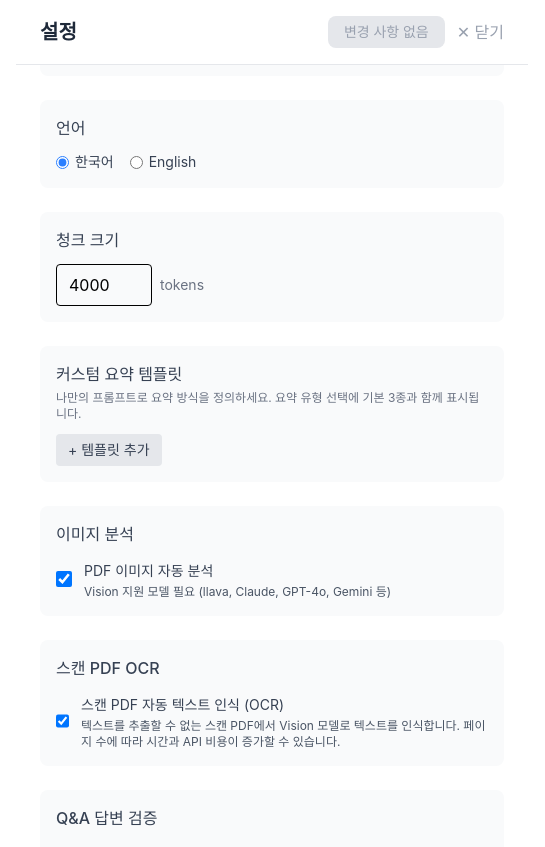
SettingsPanel — 커스텀 템플릿 검증 › 이름+프롬프트 모두 채운 완전 템플릿은 저장 성공(savedBtn)
(page scrolled)
Click the button "+ 템플릿 추가": x=109, y=450 [56,434,162,466]
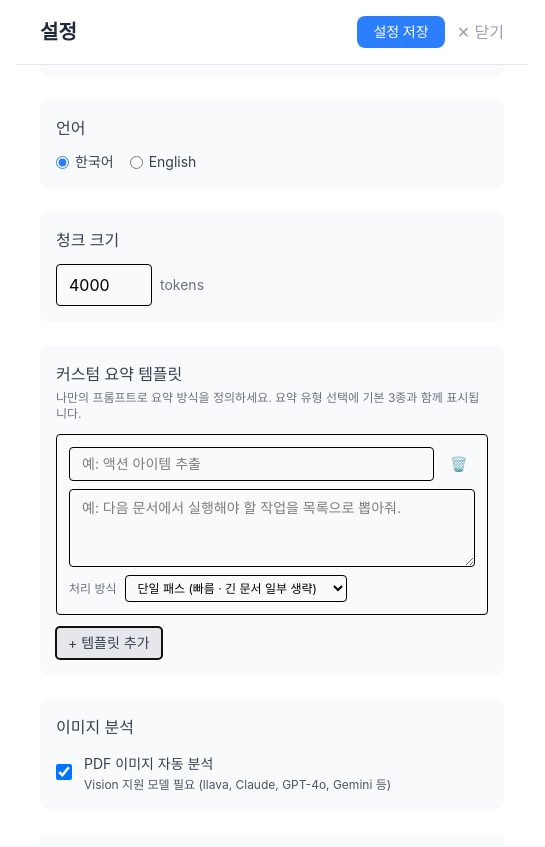
In the field named "템플릿 이름": x=252, y=464 [69,447,434,481], type "액션 아이템"
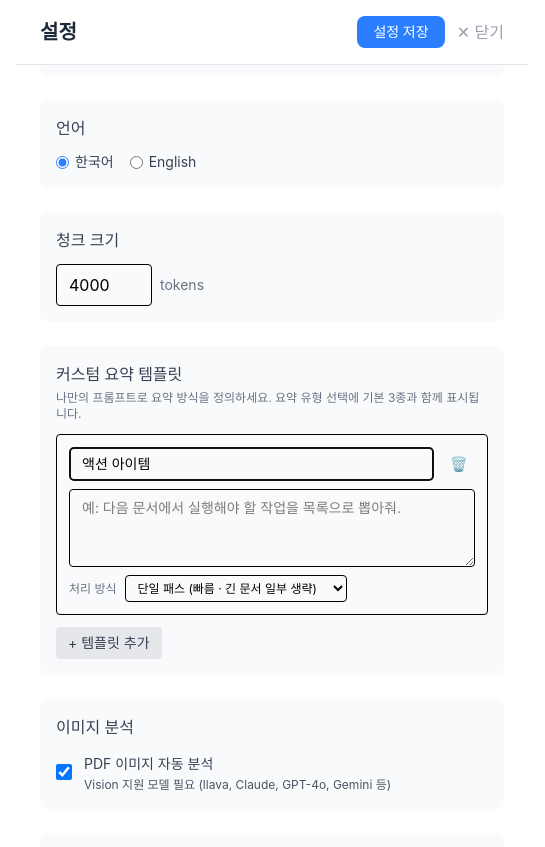
In the text box named "템플릿 프롬프트": x=272, y=528 [69,489,475,567], type "작업을 목록으로 뽑아줘"
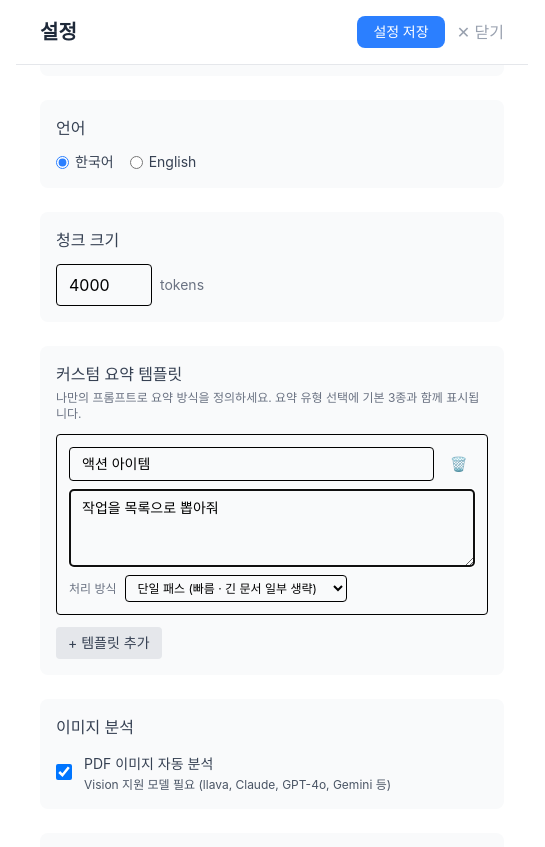
Click the button "설정 저장": x=401, y=32 [357,16,445,48]
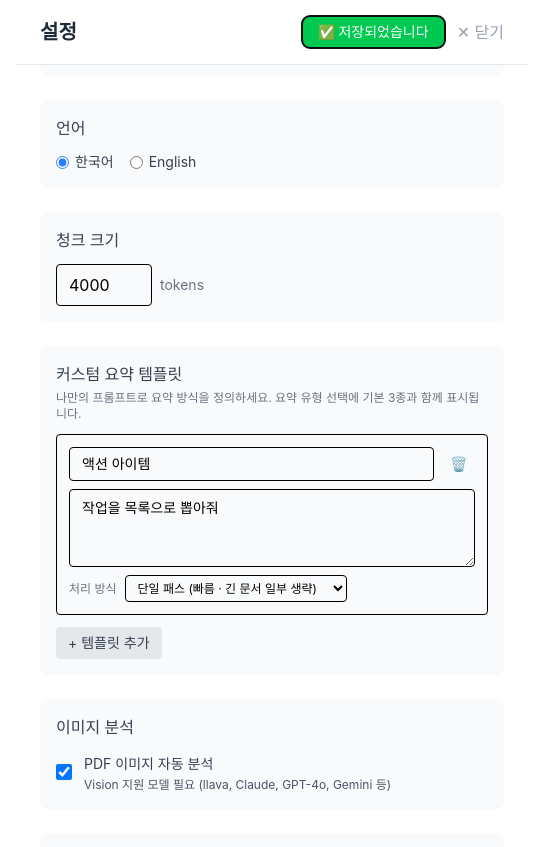
Expected: the button "✅ 저장되었습니다" is shown, [302,16,445,48]
